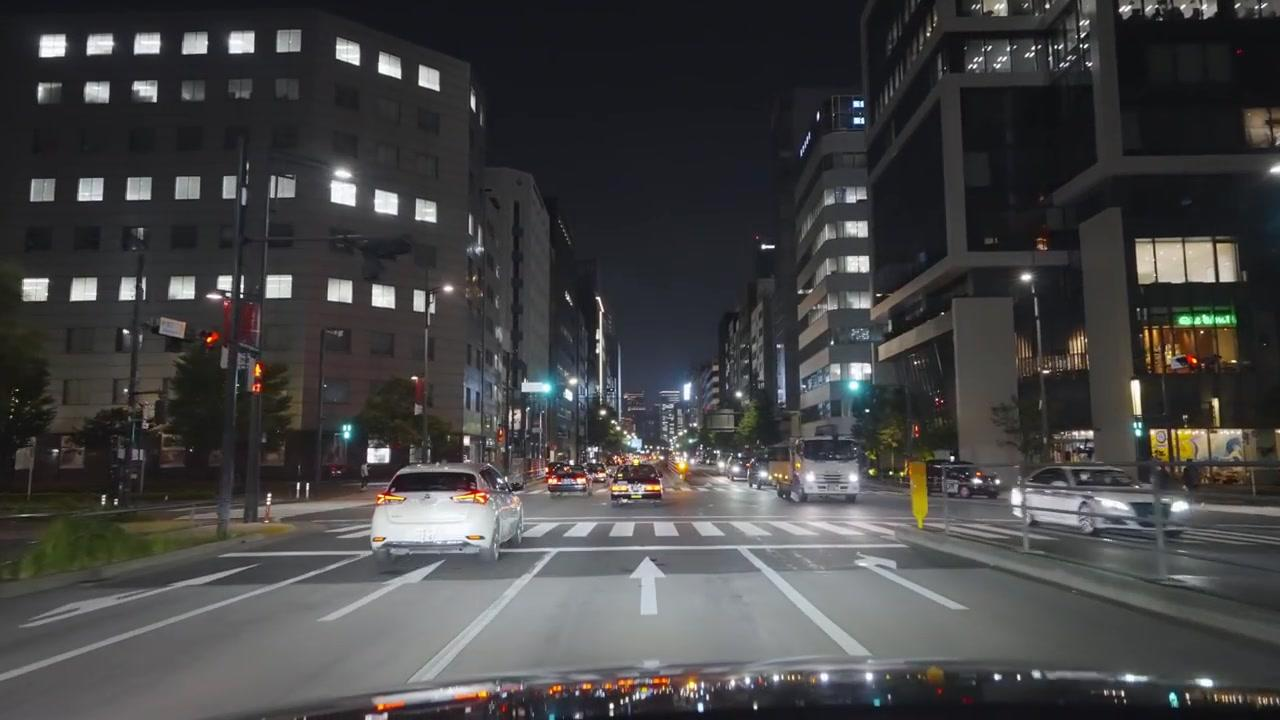car: (369, 462, 525, 571), (1011, 462, 1194, 540), (609, 463, 665, 506), (939, 463, 1001, 499), (545, 464, 590, 496), (750, 465, 773, 489)
traffic light: (251, 362, 265, 395), (202, 331, 220, 356), (411, 375, 424, 409), (340, 422, 352, 440), (497, 427, 507, 445), (912, 423, 921, 439)
truck: (772, 435, 862, 505)
